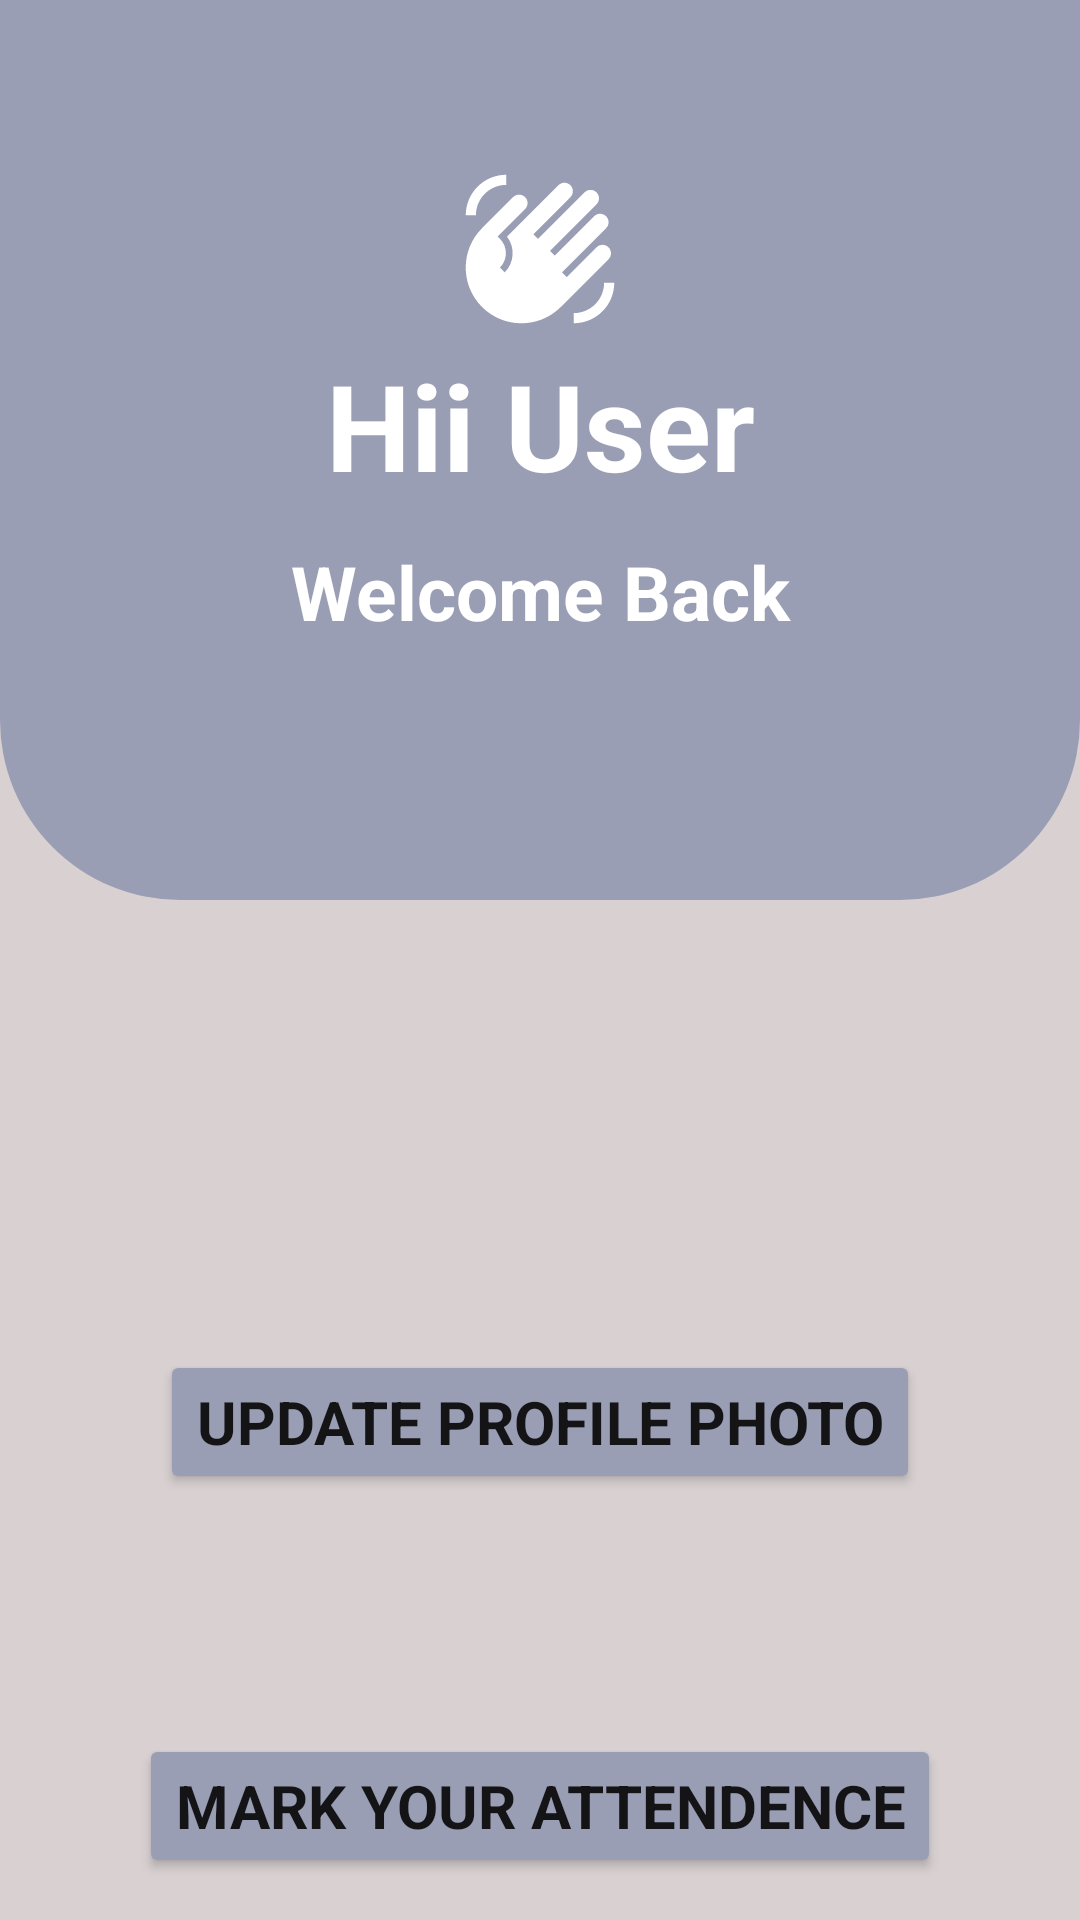

Icon bounding boxes for this 1080*1920 phone screenshot, format BBox(x1, y1, x2, y2):
hiiiiii: BBox(465, 174, 615, 324)
